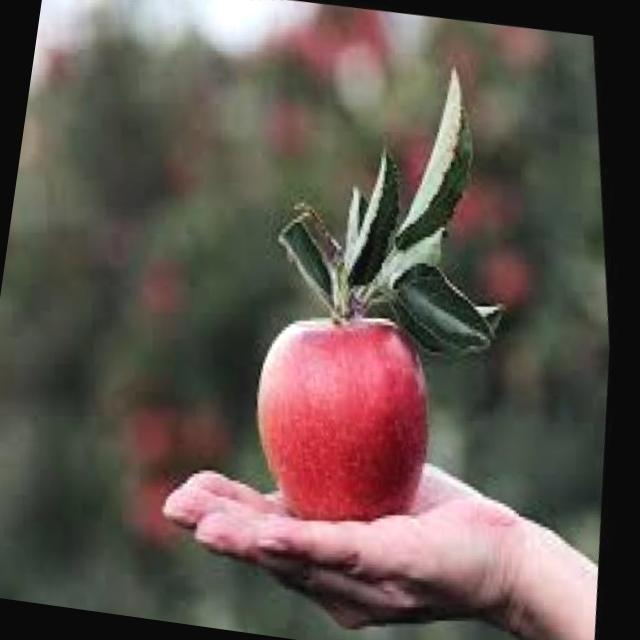Apple: (231, 303, 450, 565)
